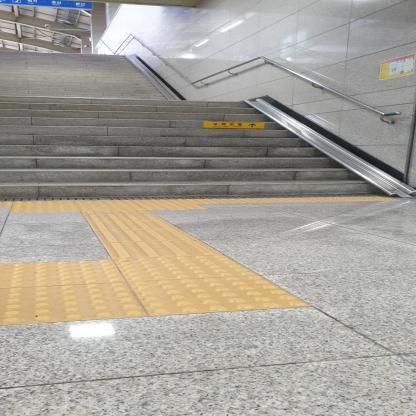go: (102, 240, 225, 259), (93, 229, 200, 243), (87, 220, 180, 232)
stop: (127, 275, 313, 316), (0, 282, 149, 326), (113, 254, 262, 282), (0, 260, 128, 289)
